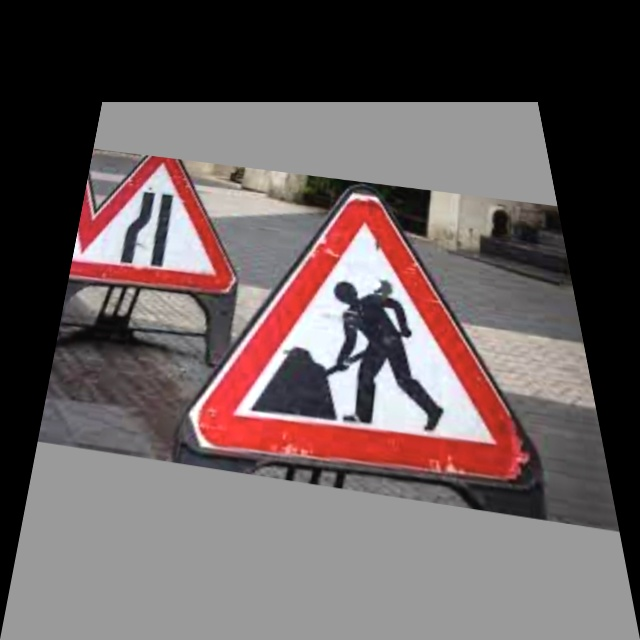Men_at_Work: (177, 196, 562, 505)
